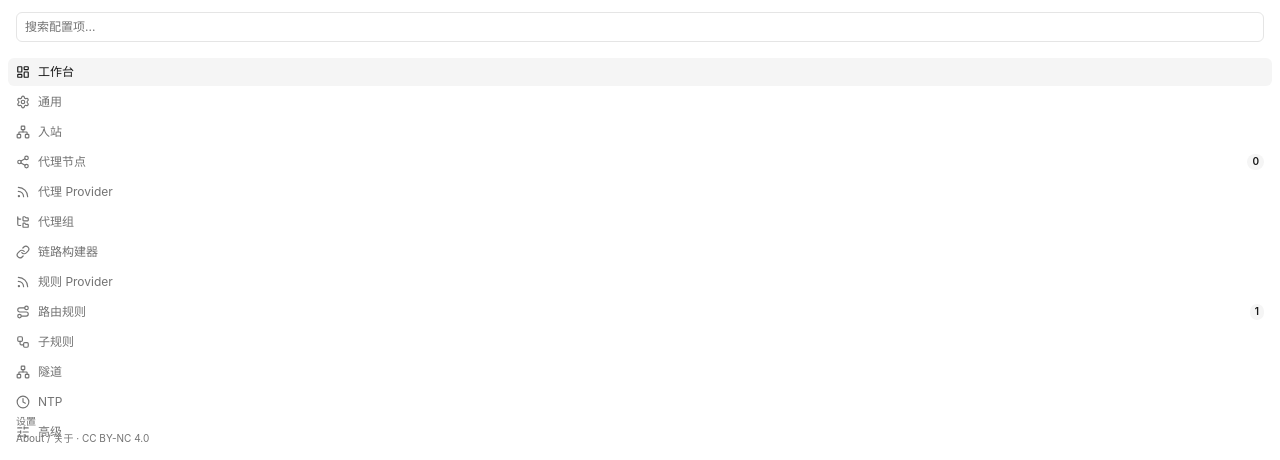
Test: NavTree component › should expose matching advanced children through search
The image size is (1280, 460).
Type "iptables" into the field with placeholder "搜索配置项...".
click(640, 27); type("iptables")  # box [16, 12, 1264, 42]
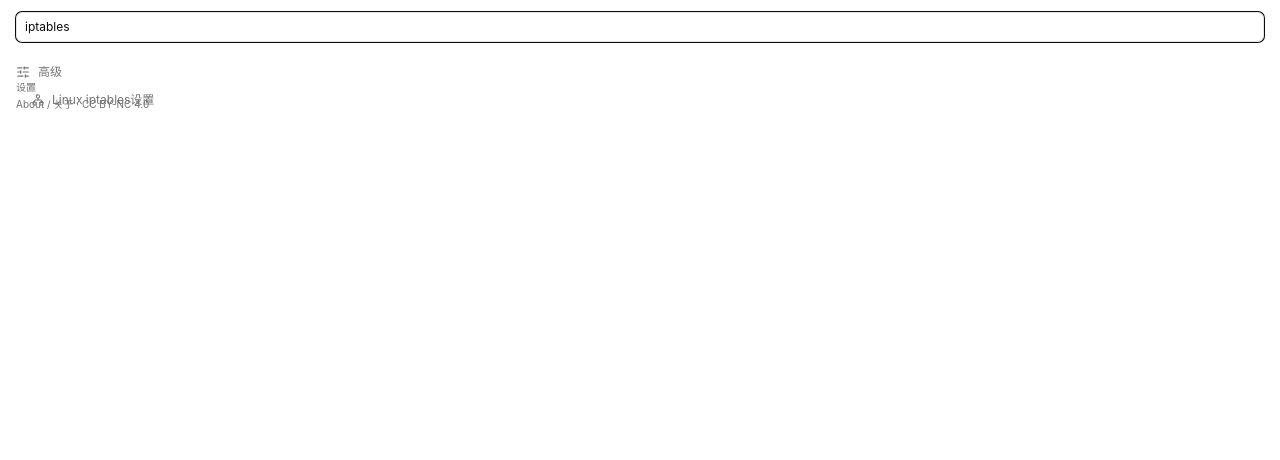
expect the text "高级" is shown: met, box [38, 64, 62, 79]
expect the text "Linux iptables设置" is shown: met, box [52, 92, 154, 108]
